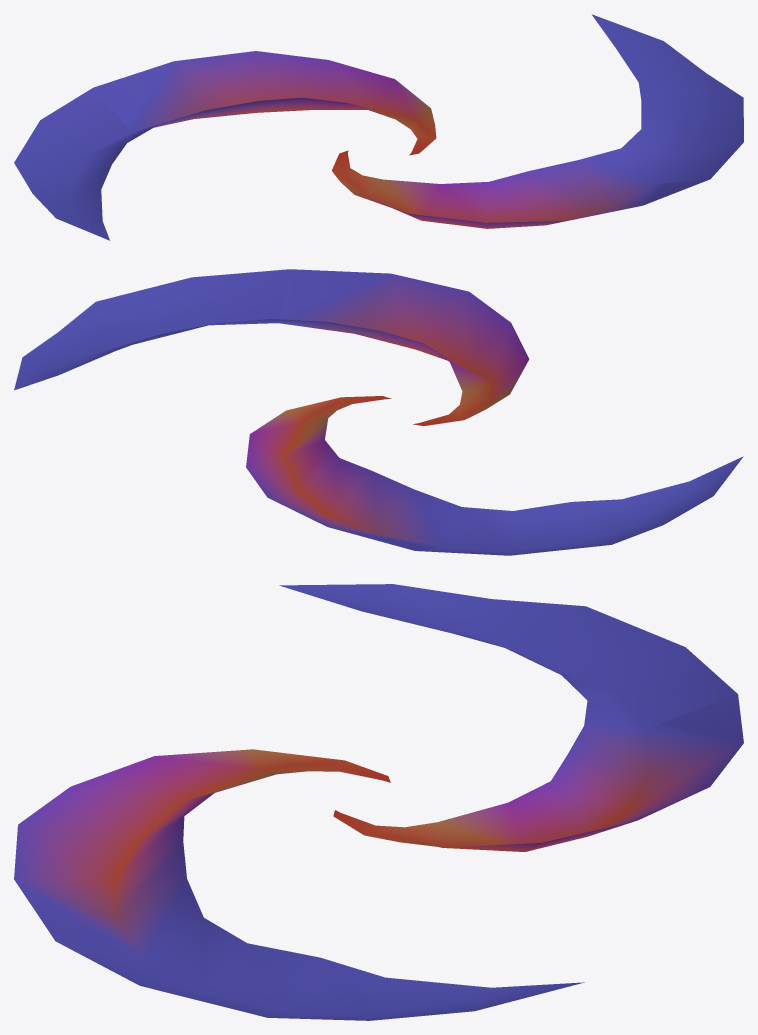
Rendered from space-galaxies-spiral-galaxy_v5.glb.
3 renders of one model, top to bottom at view 1: azimuth 30°, elevation 25°; view 2: azimuth 150°, elevation 25°; view 3: azimuth 270°, elevation 25°, orthographic. The views are drawn at different scales.
Visible parts, largest first — view 1: Spiral Galaxy_v5; view 2: Spiral Galaxy_v5; view 3: Spiral Galaxy_v5.
Part boxes in pixels (x1,y1,x2,y2): Spiral Galaxy_v5: (14, 14, 743, 240); Spiral Galaxy_v5: (14, 269, 743, 555); Spiral Galaxy_v5: (14, 584, 743, 1020).
Bounding box in the file's own units: 0.5 × 0.0254 × 0.3583.
